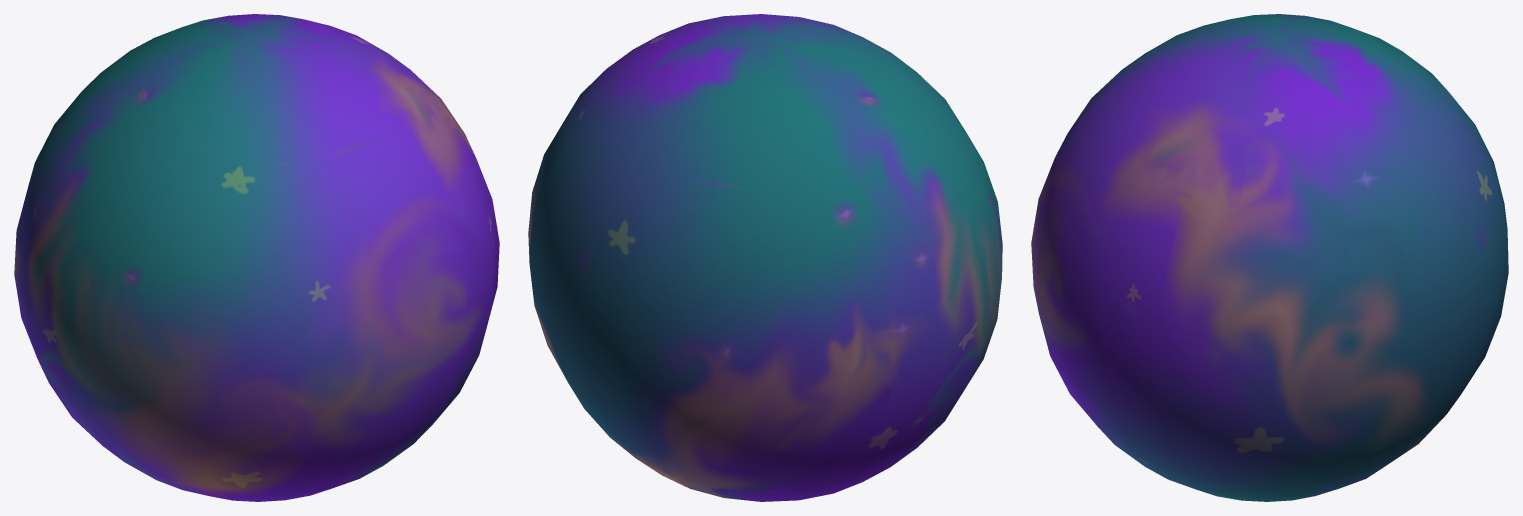
The model's file is Crystal ball.fbx.
3 renders of one model, left to right at view 1: azimuth 30°, elevation 25°; view 2: azimuth 150°, elevation 25°; view 3: azimuth 270°, elevation 25°, orthographic.
Visible parts, largest first — view 1: Crystal_Ball; view 2: Crystal_Ball; view 3: Crystal_Ball.
Boxes of the visible parts, x1,y1,x2,y2 form: Crystal_Ball: (14, 14, 499, 501); Crystal_Ball: (528, 14, 1002, 501); Crystal_Ball: (1031, 14, 1508, 501).
Size of the model in its own units: 2.46 by 2.49 by 2.43.
Materials: 1 (1 with a texture image).
